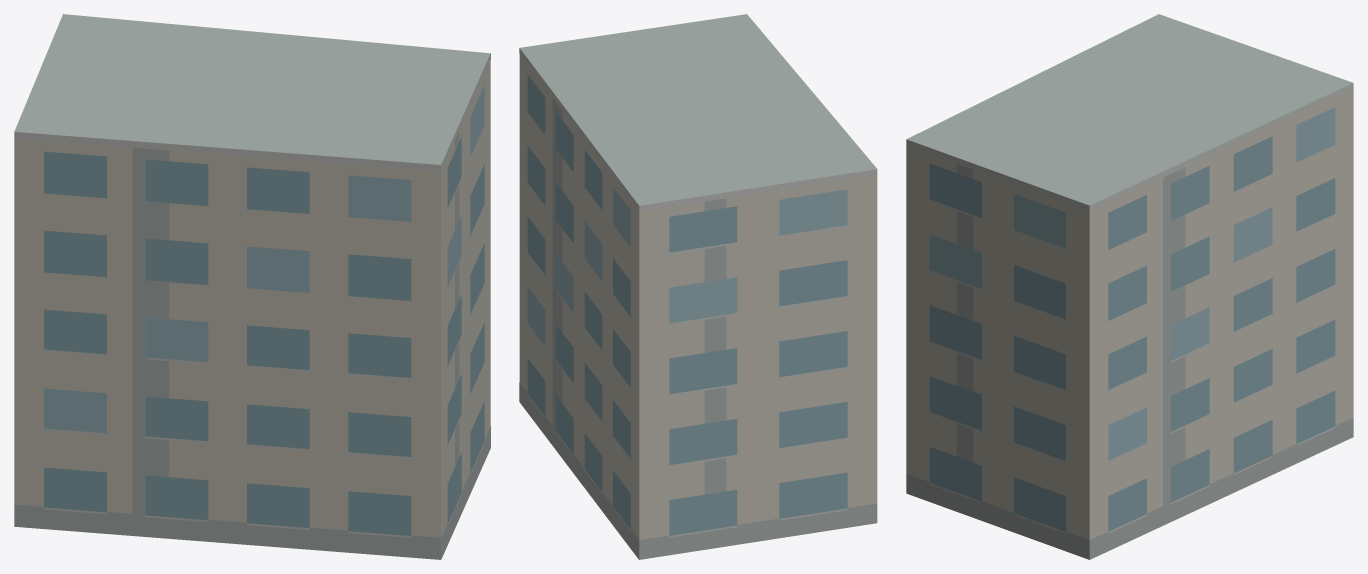
The model's file is survey-upis-32852806.glb.
The picture shows the model from 3 angles, left to right: view 1: azimuth 30°, elevation 25°; view 2: azimuth 150°, elevation 25°; view 3: azimuth 270°, elevation 25°; orthographic projection. The views are drawn at different scales.
Visible parts, largest first — view 1: survey-upis-32852806.tmp; view 2: survey-upis-32852806.tmp; view 3: survey-upis-32852806.tmp.
Part boxes in pixels (x1,y1,x2,y2): survey-upis-32852806.tmp: [14, 14, 490, 559]; survey-upis-32852806.tmp: [519, 14, 877, 559]; survey-upis-32852806.tmp: [906, 14, 1353, 559].
Size of the model in its own units: 16.48 by 14.2 by 16.25.
